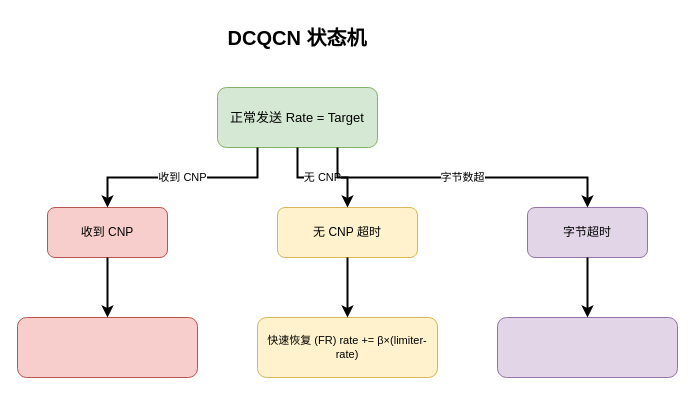
Some shapes in this 695 by 395 pixel diagram are drawn without their labels. Here are the shapes that lost their labels. From the top down, the box of each, then its label:
(16, 316, 198, 378): 乘性减 (MD) rate = rate × (1-α/2)
(496, 316, 678, 378): 加性增 (AI) rate += γ × MTU
